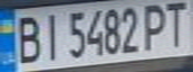2: (118, 2, 142, 54)
4: (84, 6, 106, 56)
5: (63, 7, 87, 60)
8: (103, 3, 124, 55)
B: (9, 11, 45, 64)
I: (36, 9, 63, 61)
P: (139, 0, 172, 52)
T: (160, 0, 193, 48)
